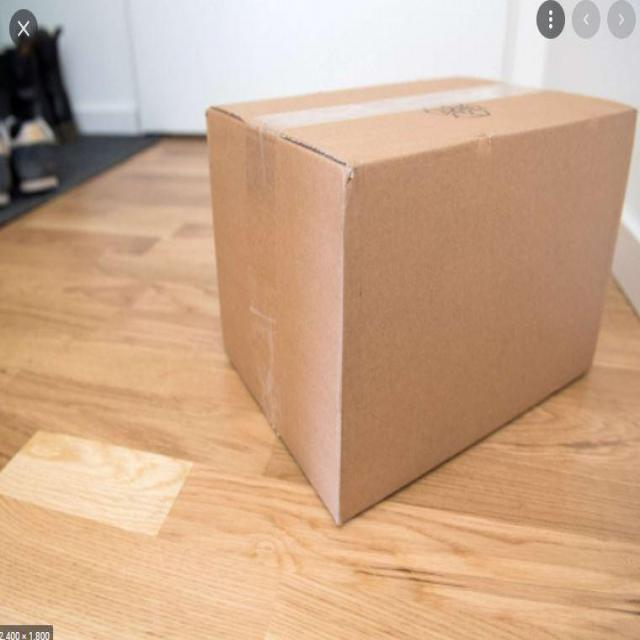box: (204, 75, 636, 526)
